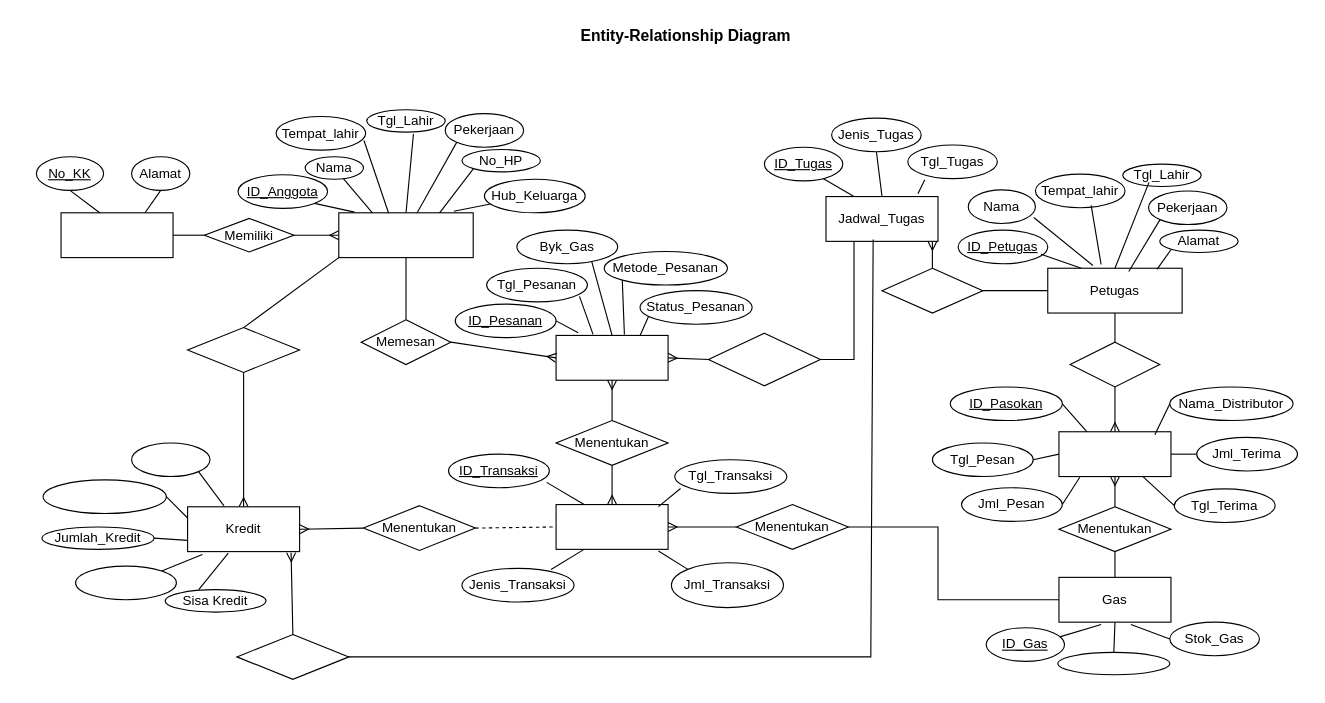
The diagram is 1325 pixels wide and 703 high, and some of its shapes have lost their labels. The shapes that lost their labels are listed below. From the top down, each one's centre as x and y in pixels, then its label:
(x=116, y=235): Keluarga
(x=405, y=235): Anggota_Keluarga
(x=932, y=290): Menugaskan
(x=243, y=349): Mempunyai
(x=611, y=357): Pemesanan
(x=763, y=359): Menjadwalkan Pengiriman
(x=1114, y=364): Mengelola
(x=170, y=459): ID_Kredit
(x=1114, y=454): Pasokan
(x=104, y=496): Tgl_Jatuh_Tempo
(x=611, y=526): Transaksi
(x=125, y=582): Status_Kredit
(x=292, y=656): Menjadwalkan Penagihan
(x=1113, y=663): Jenis_Gas
